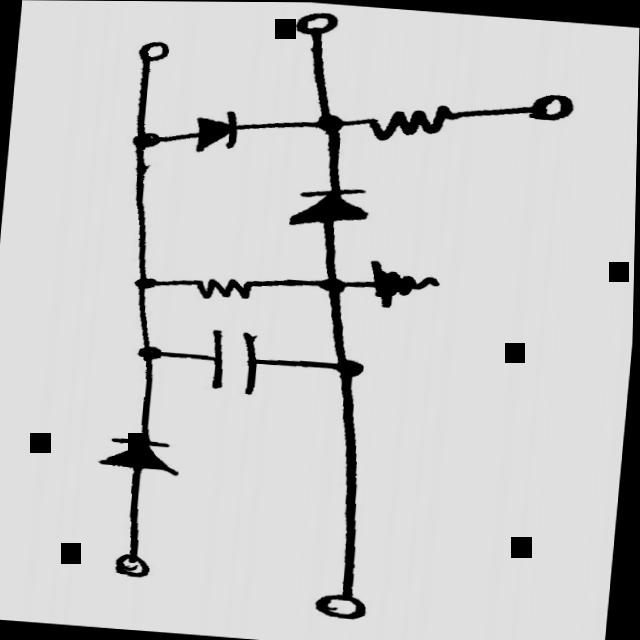capacitor: (199, 326, 264, 396)
diode: (283, 182, 380, 228), (97, 434, 183, 475), (189, 107, 243, 152)
ground: (367, 258, 448, 311)
junction: (313, 109, 349, 134), (328, 355, 366, 377), (127, 129, 165, 148), (137, 341, 170, 362), (315, 273, 348, 291), (133, 272, 159, 290)
resistor: (358, 99, 461, 145), (191, 272, 263, 303)
terminal: (515, 90, 574, 121), (316, 589, 374, 620), (107, 549, 157, 579), (295, 9, 340, 36), (132, 40, 173, 63)
